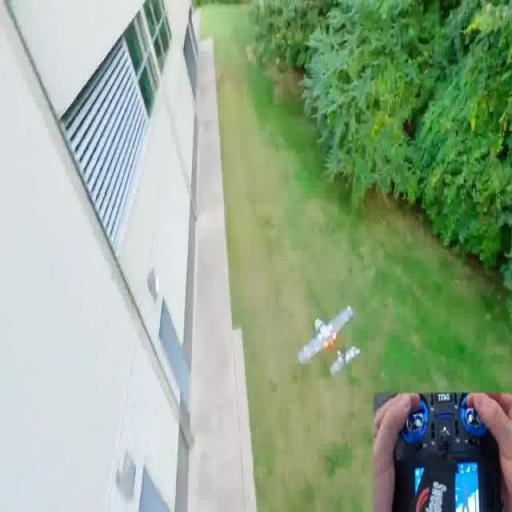uav: (293, 306, 363, 378)
